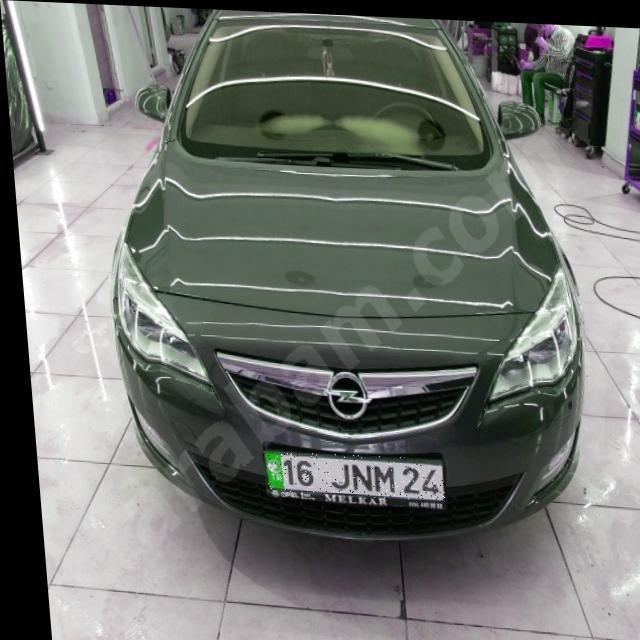license_plate: (255, 449, 437, 497)
